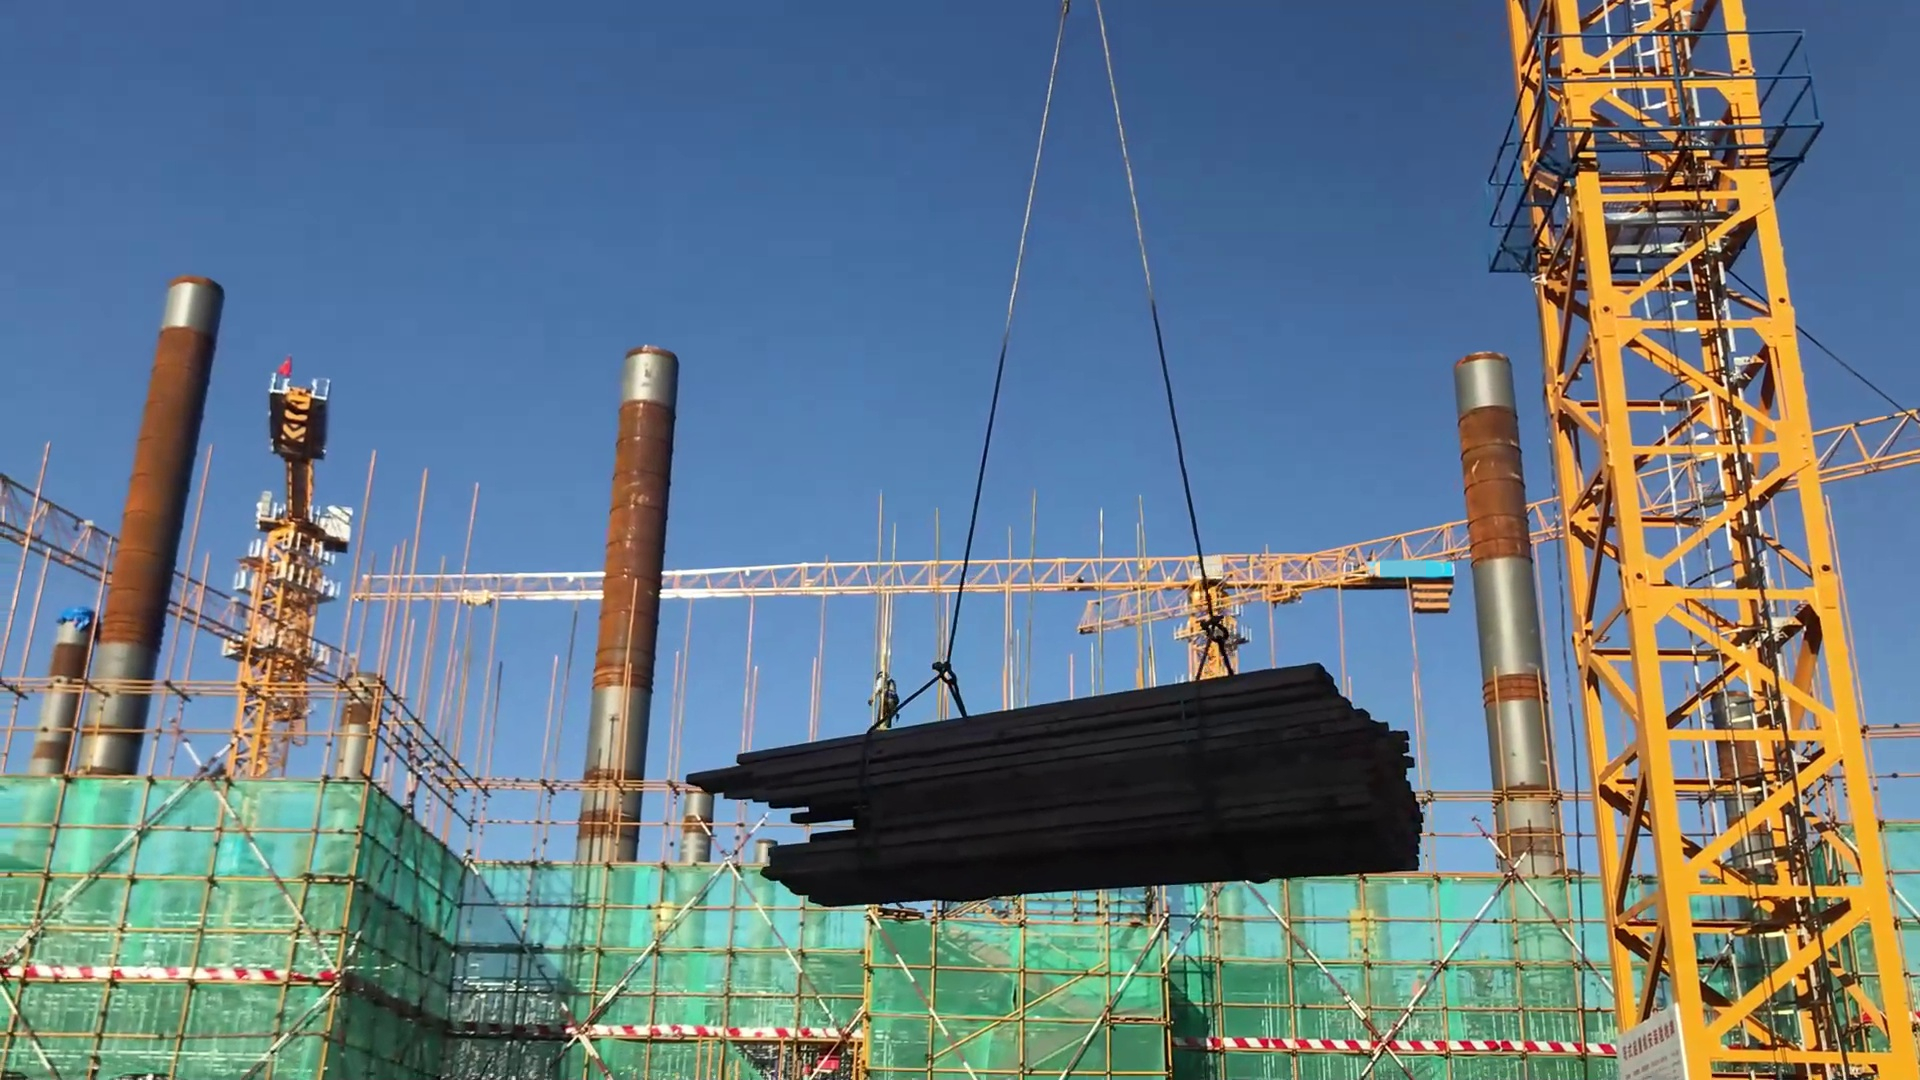person: (864, 669, 899, 733)
wood: (673, 656, 1423, 912)
